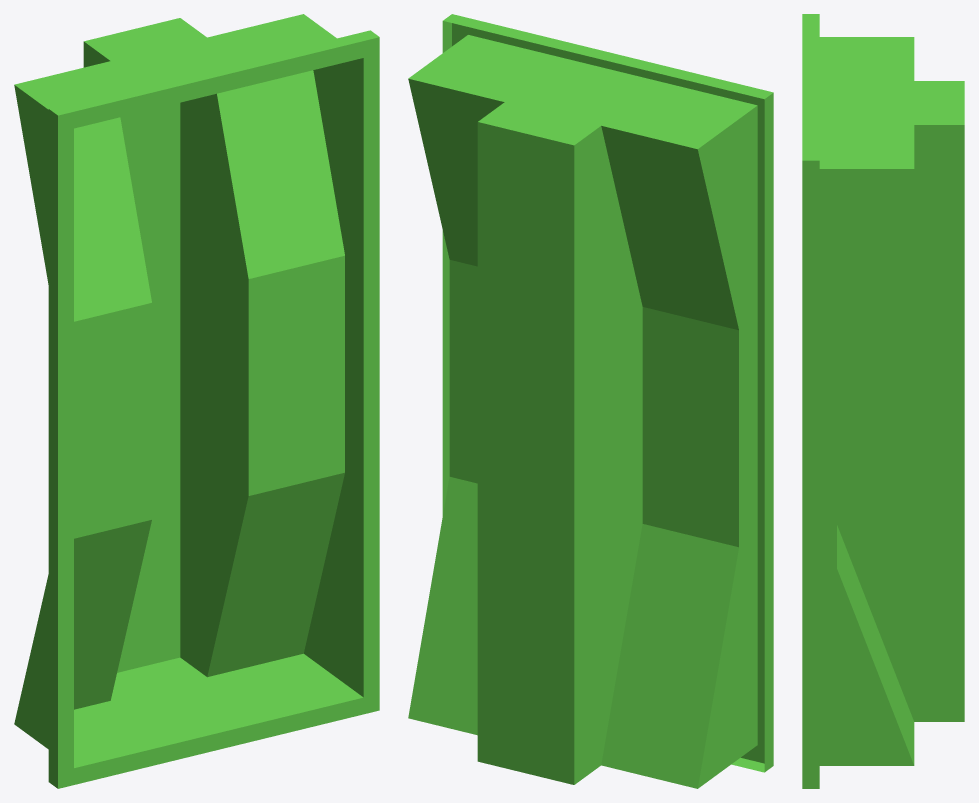
The model's file is Wall_B_4x2m.FBX.
The picture shows the model from 3 angles, left to right: view 1: azimuth 30°, elevation 25°; view 2: azimuth 150°, elevation 25°; view 3: azimuth 270°, elevation 25°; orthographic projection. The views are drawn at different scales.
Parts seen in each view (by area): view 1: Wall_B_4x2m; view 2: Wall_B_4x2m; view 3: Wall_B_4x2m.
Part boxes in pixels (<box>): Wall_B_4x2m: <box>14,14,379,788</box>; Wall_B_4x2m: <box>408,14,773,788</box>; Wall_B_4x2m: <box>802,14,964,788</box>.
Bounding box in the file's own units: 200 × 400 × 93.59.
